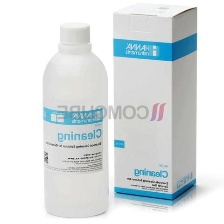book: (109, 1, 201, 206)
cleaning_solution: (40, 17, 112, 219)
